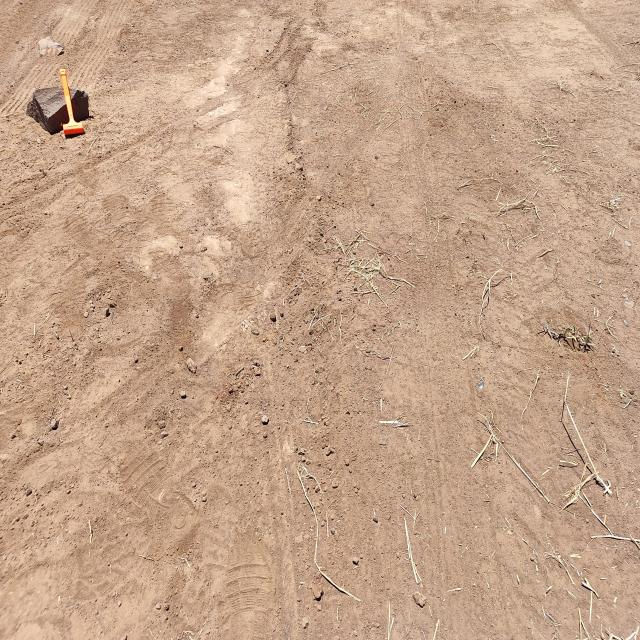Orange_hammer: (58, 67, 84, 138)
